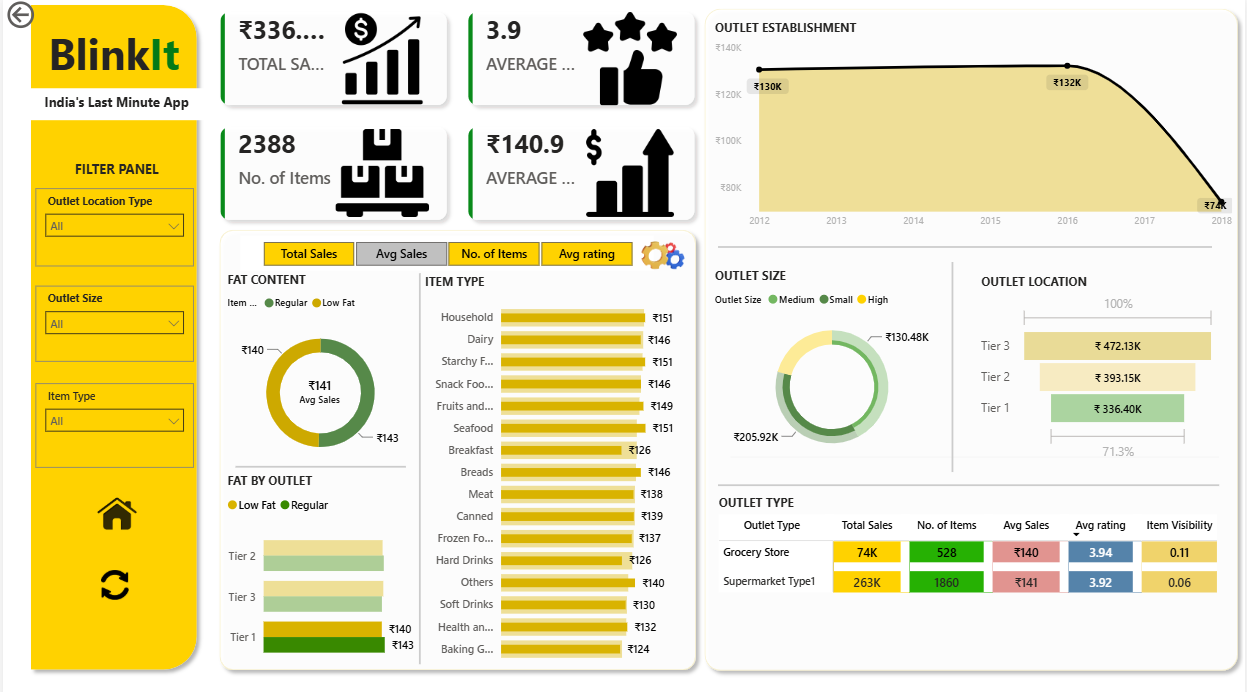

The page's visual inventory and layout, read from the dashboard file:
{"tool":"powerbi","page":{"name":"Page 1","canvas":[1400,800],"ordinal":0},"visuals":[{"type":"shape","box":[820.2,383.1,550.7,270.7],"z":0},{"type":"shape","box":[22.9,0,204.8,766.9],"z":1000},{"type":"textbox","box":[7,25.8,235.5,96.1],"z":2000},{"type":"textbox","box":[12.9,103.1,230.8,36.3],"z":3000},{"type":"cardVisual","fields":{"Data":["Blinkit Grocery Data.Total Sales","Blinkit Grocery Data.Avg rating","Blinkit Grocery Data.No. of Items","Blinkit Grocery Data.Avg Sales"]},"box":[227.7,0,569.8,269.6],"z":4000},{"type":"shape","box":[235.3,253.1,554.5,513.8],"z":5000},{"type":"slicer","fields":{"Values":["Metrics.Metrics"]},"box":[267.1,269.6,465.5,39.4],"z":6000},{"type":"donutChart","title":"FAT CONTENT","fields":{"Y":["Blinkit Grocery Data.Avg Sales"],"Category":["Blinkit Grocery Data.Item Fat Content"]},"box":[248,307.8,220,230.2],"z":7000},{"type":"cardVisual","fields":{"Data":["Blinkit Grocery Data.Avg Sales"]},"box":[273.4,405.7,167.9,77.6],"z":8000},{"type":"shape","box":[262.4,514.4,192.2,30.5],"z":9000},{"type":"barChart","title":"ITEM TYPE","fields":{"Y":["Blinkit Grocery Data.Avg Sales"],"Category":["Blinkit Grocery Data.Item Type"]},"box":[469.8,311.7,311.7,448.7],"z":10000},{"type":"shape","box":[781.5,4.7,618.6,763.9],"z":11000},{"type":"lineChart","title":"OUTLET ESTABLISHMENT","fields":{"Y":["Blinkit Grocery Data.Total Sales"],"Category":["Blinkit Grocery Data.Outlet Establishment Year"]},"box":[796.7,25.8,592.9,243.7],"z":12000},{"type":"shape","box":[1063.9,298.8,12.9,236.7],"z":13000},{"type":"donutChart","title":"OUTLET SIZE","fields":{"Y":["Blinkit Grocery Data.Total Sales"],"Category":["Blinkit Grocery Data.Outlet Size"]},"box":[796.7,304.6,274.2,225],"z":14000},{"type":"funnel","title":"OUTLET LOCATION","fields":{"Category":["Blinkit Grocery Data.Outlet Location Type"],"Y":["Sum(Blinkit Grocery Data.Sales)"]},"box":[1096.7,311.7,274.2,216.8],"z":15000},{"type":"shape","box":[806.1,275.3,556.5,14.1],"z":16000},{"type":"pivotTable","title":"OUTLET TYPE","fields":{"Rows":["Blinkit Grocery Data.Outlet Type"],"Values":["Blinkit Grocery Data.Total Sales","Blinkit Grocery Data.No. of Items","Blinkit Grocery Data.Avg Sales","Blinkit Grocery Data.Avg rating","Avg(Blinkit Grocery Data.Item Visibility)"]},"box":[801.2,560.9,579.9,203.5],"z":17000},{"type":"actionButton","box":[0,0,100,40],"z":18000},{"type":"slicer","fields":{"Values":["Blinkit Grocery Data.Outlet Location Type"]},"box":[36.9,215.7,178.1,87.8],"z":19000},{"type":"shape","box":[445.2,311.7,49.2,440.5],"z":20000},{"type":"slicer","fields":{"Values":["Blinkit Grocery Data.Outlet Size"]},"box":[36.9,325.1,178.1,85.2],"z":21000},{"type":"shape","box":[806.1,529.6,564.7,41],"z":22000},{"type":"slicer","fields":{"Values":["Blinkit Grocery Data.Item Type"]},"box":[36.9,435.7,178.1,95.4],"z":23000},{"type":"clusteredBarChart","title":"FAT BY OUTLET","fields":{"Y":["Blinkit Grocery Data.Avg Sales"],"Series":["Blinkit Grocery Data.Item Fat Content"],"Category":["Blinkit Grocery Data.Outlet Location Type"]},"box":[248,535.4,221.3,228.9],"z":24000},{"type":"textbox","box":[50.9,178.8,155.2,39.4],"z":25000},{"type":"image","box":[105.6,641,40.7,43.2],"z":26000},{"type":"image","box":[97.9,550.7,59.8,58.5],"z":27000},{"type":"image","box":[707.7,253.1,73.8,75],"z":28000}]}

Visuals, with their boxes in screenshot pixels (x1, y1, x2, y2), scaled from the page's 1400x800 canvas onto the 1247x692 screenshot:
shape: (left=731, top=331, right=1221, bottom=566)
shape: (left=20, top=0, right=203, bottom=663)
textbox: (left=6, top=22, right=216, bottom=105)
textbox: (left=11, top=89, right=217, bottom=121)
cardVisual - Blinkit Grocery Data.Total Sales x Blinkit Grocery Data.Avg rating: (left=203, top=0, right=710, bottom=233)
shape: (left=210, top=219, right=703, bottom=663)
slicer - Metrics.Metrics: (left=238, top=233, right=653, bottom=267)
"FAT CONTENT" donutChart: (left=221, top=266, right=417, bottom=465)
cardVisual - Blinkit Grocery Data.Avg Sales: (left=244, top=351, right=393, bottom=418)
shape: (left=234, top=445, right=405, bottom=471)
"ITEM TYPE" barChart: (left=418, top=270, right=696, bottom=658)
shape: (left=696, top=4, right=1246, bottom=665)
"OUTLET ESTABLISHMENT" lineChart: (left=710, top=22, right=1238, bottom=233)
shape: (left=948, top=258, right=959, bottom=463)
"OUTLET SIZE" donutChart: (left=710, top=263, right=954, bottom=458)
"OUTLET LOCATION" funnel: (left=977, top=270, right=1221, bottom=457)
shape: (left=718, top=238, right=1214, bottom=250)
"OUTLET TYPE" pivotTable: (left=714, top=485, right=1230, bottom=661)
actionButton: (left=0, top=0, right=89, bottom=35)
slicer - Blinkit Grocery Data.Outlet Location Type: (left=33, top=187, right=192, bottom=263)
shape: (left=397, top=270, right=440, bottom=651)
slicer - Blinkit Grocery Data.Outlet Size: (left=33, top=281, right=192, bottom=355)
shape: (left=718, top=458, right=1221, bottom=494)
slicer - Blinkit Grocery Data.Item Type: (left=33, top=377, right=192, bottom=459)
"FAT BY OUTLET" clusteredBarChart: (left=221, top=463, right=418, bottom=661)
textbox: (left=45, top=155, right=184, bottom=189)
image: (left=94, top=554, right=130, bottom=592)
image: (left=87, top=476, right=140, bottom=527)
image: (left=630, top=219, right=696, bottom=284)
